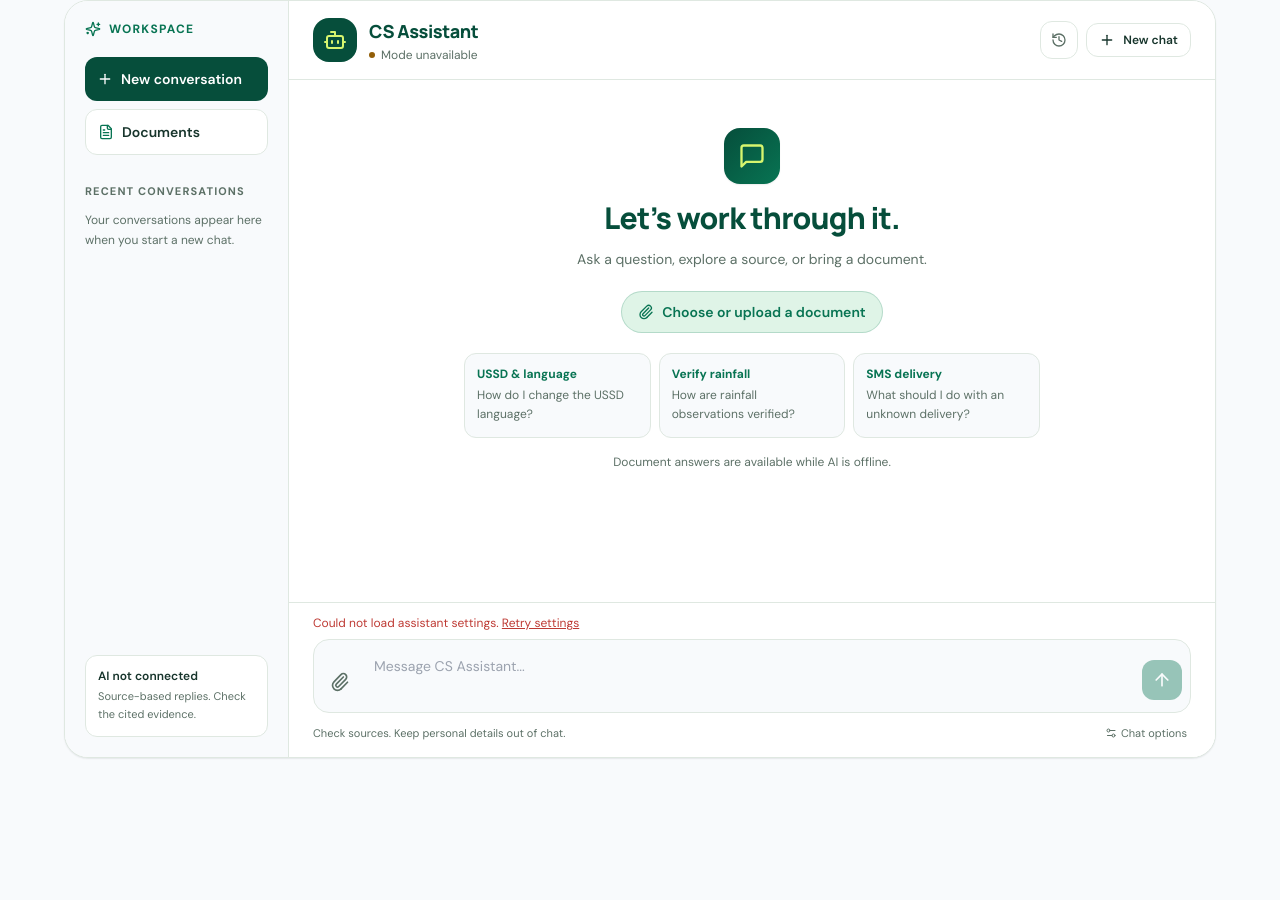
blocks sending when settings fail and recovers on retry
The width and height of the screenshot is (1280, 900).
Expected: the text "Could not load assistant settings." is shown, [313,615,502,631]
In the text box named "Your question": (750, 676) [366,648,1134,704], type "USSD language"
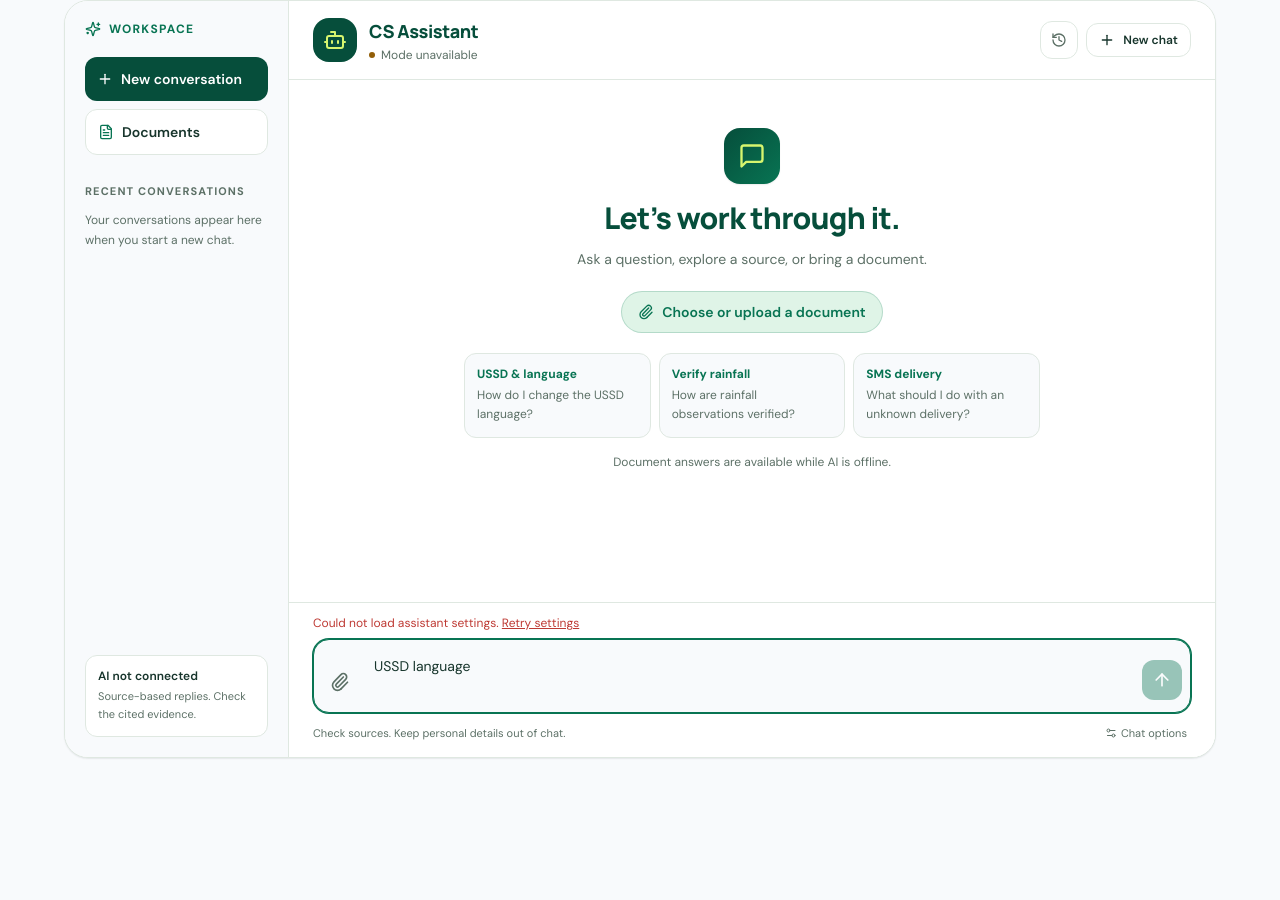
Expected: the button named "Ask assistant" is disabled, [1142,660,1182,700]
Click the button "Retry settings": (541, 623) [502,615,579,631]
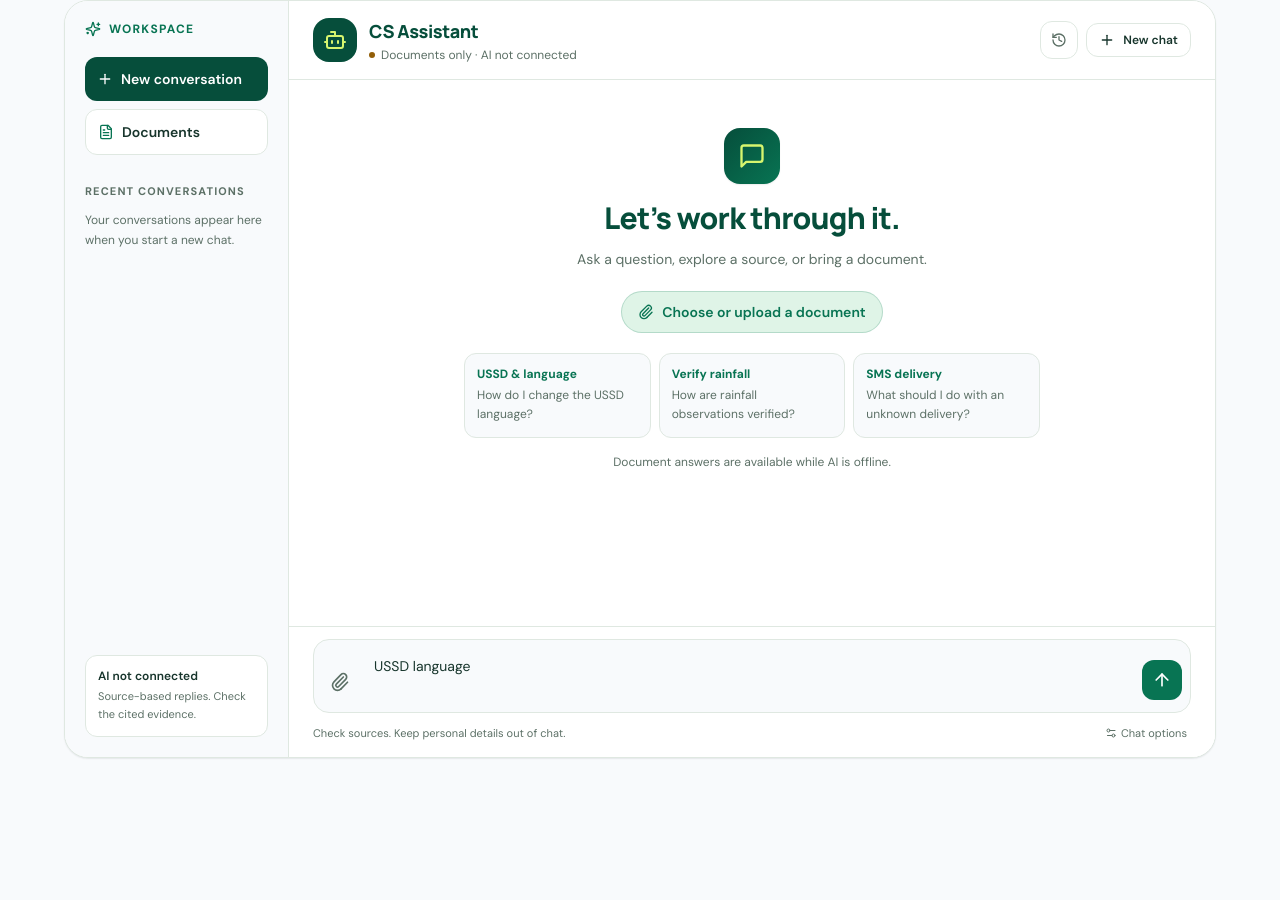
Now the button named "Ask assistant" is enabled, box [1142,660,1182,700]
